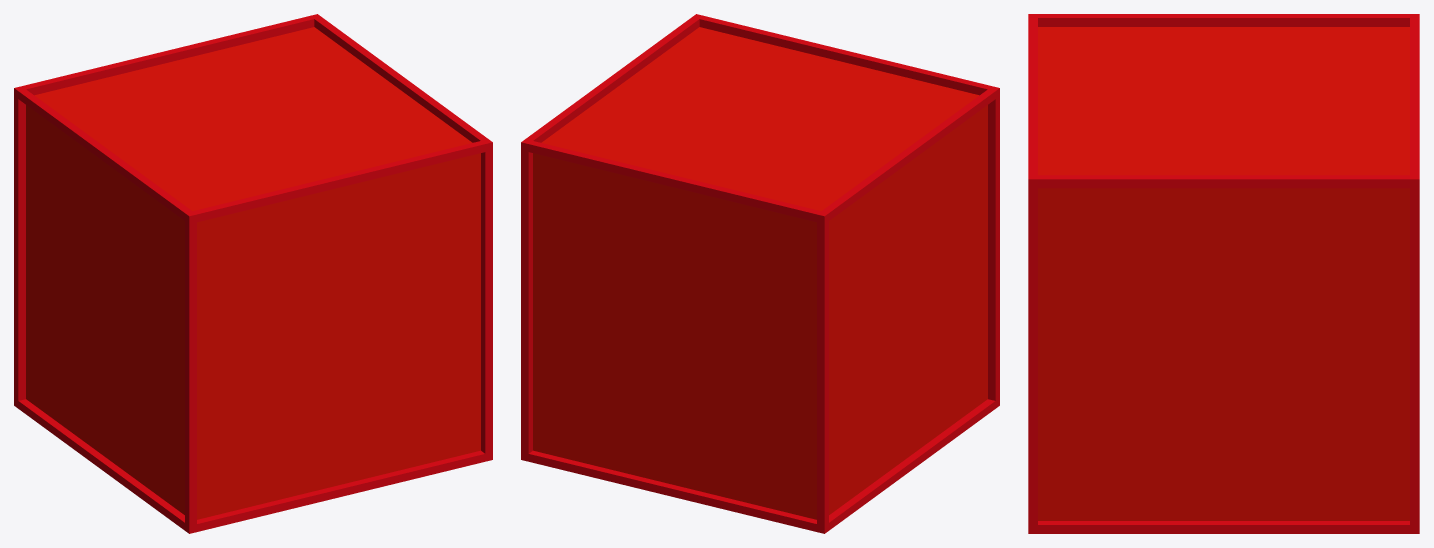
File: Obstacle.fbx
The picture shows the model from 3 angles, left to right: view 1: azimuth 30°, elevation 25°; view 2: azimuth 150°, elevation 25°; view 3: azimuth 270°, elevation 25°; orthographic projection. The views are drawn at different scales.
Parts seen in each view (by area): view 1: Transparent, Border; view 2: Transparent, Border; view 3: Transparent, Border.
Part boxes in pixels (bbox=[...]): Transparent: bbox=[26, 27, 480, 519]; Border: bbox=[14, 14, 492, 533]; Transparent: bbox=[533, 27, 987, 519]; Border: bbox=[521, 14, 999, 533]; Transparent: bbox=[1038, 27, 1409, 520]; Border: bbox=[1028, 14, 1419, 533].
Size of the model in its own units: 200 by 200 by 200.
